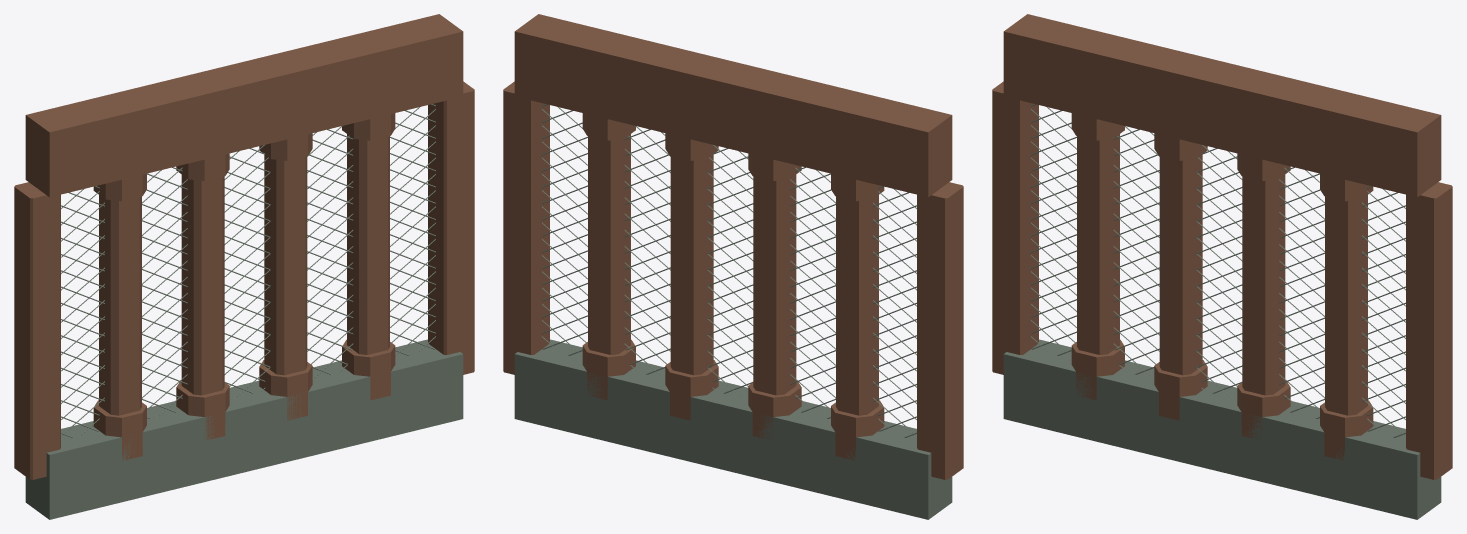
The model's file is underwater temple.fbx.
3 renders of one model, left to right at view 1: azimuth 30°, elevation 25°; view 2: azimuth 150°, elevation 25°; view 3: azimuth 330°, elevation 25°, orthographic.
Visible parts, largest first — view 1: Underwater Column Architrave.011, Underwater Columns.007, Underwater Column Architrave.009, Underwater Columns.006, Underwater Column Architrave.010, Underwater Column Base.007, Underwater Column Base.006; view 2: Underwater Column Architrave.011, Underwater Columns.007, Underwater Column Architrave.009, Underwater Columns.006, Underwater Column Architrave.010, Underwater Column Base.007, Underwater Column Base.006; view 3: Underwater Column Architrave.011, Underwater Columns.007, Underwater Column Architrave.009, Underwater Columns.006, Underwater Column Architrave.010, Underwater Column Base.007, Underwater Column Base.006.
Part boxes in pixels (x1=…): Underwater Column Architrave.011: x1=25, y1=14, x2=463, y2=197; Underwater Columns.007: x1=99, y1=134, x2=389, y2=415; Underwater Column Architrave.009: x1=25, y1=339, x2=463, y2=519; Underwater Columns.006: x1=14, y1=81, x2=474, y2=479; Underwater Column Architrave.010: x1=37, y1=104, x2=435, y2=437; Underwater Column Base.007: x1=93, y1=339, x2=395, y2=460; Underwater Column Base.006: x1=93, y1=113, x2=395, y2=201; Underwater Column Architrave.011: x1=514, y1=14, x2=952, y2=197; Underwater Columns.007: x1=588, y1=134, x2=878, y2=415; Underwater Column Architrave.009: x1=514, y1=339, x2=952, y2=519; Underwater Columns.006: x1=503, y1=81, x2=963, y2=479; Underwater Column Architrave.010: x1=542, y1=104, x2=940, y2=437; Underwater Column Base.007: x1=582, y1=339, x2=884, y2=460; Underwater Column Base.006: x1=582, y1=113, x2=884, y2=201; Underwater Column Architrave.011: x1=1003, y1=14, x2=1441, y2=197; Underwater Columns.007: x1=1077, y1=134, x2=1367, y2=415; Underwater Column Architrave.009: x1=1003, y1=339, x2=1441, y2=519; Underwater Columns.006: x1=992, y1=81, x2=1452, y2=479; Underwater Column Architrave.010: x1=1031, y1=104, x2=1429, y2=437; Underwater Column Base.007: x1=1071, y1=339, x2=1373, y2=460; Underwater Column Base.006: x1=1071, y1=113, x2=1373, y2=201.
Size of the model in its own units: 10.75 by 8.95 by 1.
